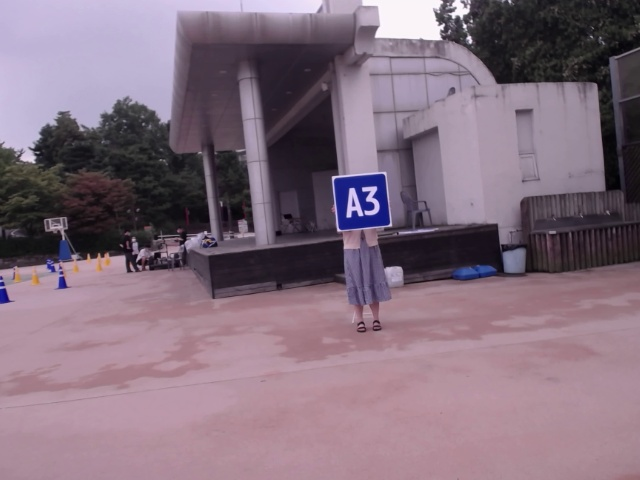delivery_a3: (333, 172, 392, 231)
